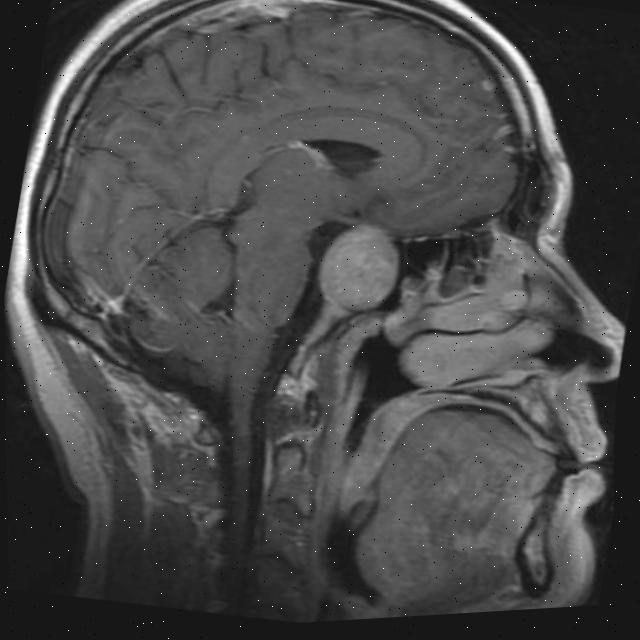Pituitary: (311, 213, 406, 321)
